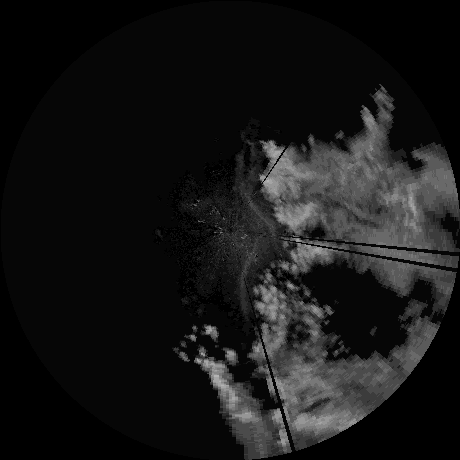frontgust: (244, 184, 275, 232), (236, 242, 252, 317)
